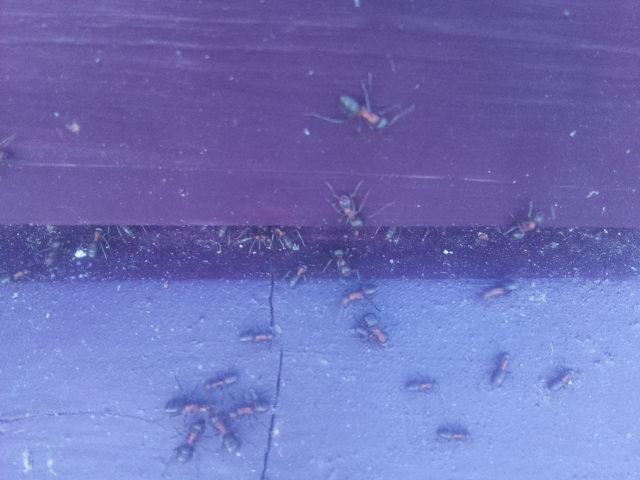ant: (331, 79, 395, 141), (333, 176, 370, 241), (173, 416, 205, 469), (508, 208, 550, 244), (209, 411, 241, 457), (334, 282, 384, 311), (224, 395, 275, 422), (488, 347, 514, 393), (360, 308, 389, 349), (481, 275, 521, 303), (203, 367, 237, 395), (165, 397, 214, 415), (331, 243, 352, 279), (284, 260, 308, 289)
